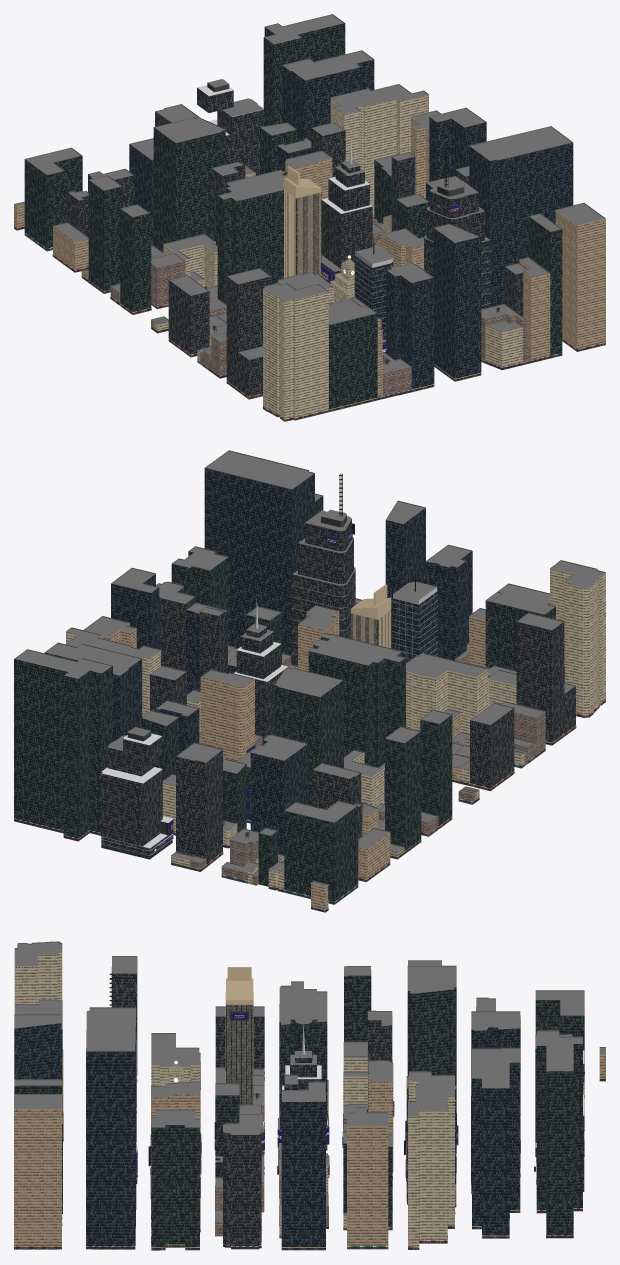
File: hero.glb
The picture shows the model from 3 angles, top to bottom: view 1: azimuth 30°, elevation 25°; view 2: azimuth 150°, elevation 25°; view 3: azimuth 270°, elevation 25°; orthographic projection. The views are drawn at different scales.
Visible parts, largest first — view 1: BLD_TS_BankOfAmericaTower_1087268, BLD_TS_1087978, BLD_TS_MorganStanleyBuilding_1076193, BLD_TS_1086069, BLD_TS_NewYorkMarriottMarquisHotel_1024727, BLD_TS_1087119, BLD_TS_CelaneseBuilding_1022678, BLD_TS_1024656, BLD_TS_McgrawHillBuilding_1022693, BLD_TS_1024665, BLD_TS_1540Broadway, BLD_TS_ExxonBuilding_1022706 (+37 smaller); view 2: BLD_TS_ExxonBuilding_1022706, BLD_TS_BankOfAmericaTower_1087268, BLD_TS_NewYorkMarriottMarquisHotel_1024727, BLD_TS_750SeventhAve, BLD_TS_1085498, BLD_TS_1087978, BLD_TS_FourTimesSquare, BLD_TS_MorganStanleyBuilding_1076193, BLD_TS_1024795, BLD_TS_1087141, BLD_TS_CrownPlazaHotel_1076195, BLD_TS_1088760 (+34 smaller); view 3: BLD_TS_BankOfAmericaTower_1087268, BLD_TS_ExxonBuilding_1022706, BLD_TS_McgrawHillBuilding_1022693, BLD_TS_CelaneseBuilding_1022678, BLD_TS_1087119, BLD_TS_AmericasTowerOffices_1076173, BLD_TS_1080824, BLD_TS_JPStevensCompanyTower_1083717, BLD_TS_MorganStanleyBuilding_1076193, BLD_TS_1022631, BLD_TS_NewYorkMarriottMarquisHotel_1024727, BLD_TS_OneAstorPlaza (+17 smaller).
Boxes of the visible parts, bbox=[...] form: BLD_TS_BankOfAmericaTower_1087268: bbox=[469, 126, 573, 306]; BLD_TS_1087978: bbox=[263, 283, 328, 421]; BLD_TS_MorganStanleyBuilding_1076193: bbox=[153, 117, 225, 252]; BLD_TS_1086069: bbox=[433, 223, 481, 381]; BLD_TS_NewYorkMarriottMarquisHotel_1024727: bbox=[217, 169, 287, 304]; BLD_TS_1087119: bbox=[555, 203, 605, 351]; BLD_TS_CelaneseBuilding_1022678: bbox=[330, 84, 428, 217]; BLD_TS_1024656: bbox=[386, 262, 434, 392]; BLD_TS_McgrawHillBuilding_1022693: bbox=[282, 50, 374, 141]; BLD_TS_1024665: bbox=[329, 298, 377, 411]; BLD_TS_1540Broadway: bbox=[321, 137, 372, 280]; BLD_TS_ExxonBuilding_1022706: bbox=[263, 14, 345, 126]; BLD_TS_ExxonBuilding_1022706: bbox=[14, 649, 112, 841]; BLD_TS_BankOfAmericaTower_1087268: bbox=[204, 450, 314, 664]; BLD_TS_NewYorkMarriottMarquisHotel_1024727: bbox=[308, 633, 405, 767]; BLD_TS_750SeventhAve: bbox=[101, 727, 173, 859]; BLD_TS_1085498: bbox=[284, 800, 358, 904]; BLD_TS_1087978: bbox=[550, 560, 605, 717]; BLD_TS_FourTimesSquare: bbox=[292, 473, 355, 665]; BLD_TS_MorganStanleyBuilding_1076193: bbox=[274, 667, 343, 805]; BLD_TS_1024795: bbox=[176, 742, 223, 867]; BLD_TS_1087141: bbox=[516, 612, 564, 745]; BLD_TS_CrownPlazaHotel_1076195: bbox=[250, 734, 308, 854]; BLD_TS_1088760: bbox=[406, 653, 488, 733]; BLD_TS_BankOfAmericaTower_1087268: bbox=[86, 1007, 136, 1249]; BLD_TS_ExxonBuilding_1022706: bbox=[536, 1030, 582, 1238]; BLD_TS_McgrawHillBuilding_1022693: bbox=[472, 1047, 520, 1238]; BLD_TS_CelaneseBuilding_1022678: bbox=[408, 1071, 455, 1249]; BLD_TS_1087119: bbox=[14, 1094, 61, 1249]; BLD_TS_AmericasTowerOffices_1076173: bbox=[281, 1081, 325, 1250]; BLD_TS_1080824: bbox=[151, 1109, 199, 1250]; BLD_TS_JPStevensCompanyTower_1083717: bbox=[347, 1107, 388, 1249]; BLD_TS_MorganStanleyBuilding_1076193: bbox=[407, 965, 456, 1114]; BLD_TS_1022631: bbox=[223, 1114, 261, 1249]; BLD_TS_NewYorkMarriottMarquisHotel_1024727: bbox=[279, 981, 327, 1150]; BLD_TS_OneAstorPlaza: bbox=[214, 967, 264, 1154].
Size of the model in its own units: 519 by 294 by 736.
133 materials, 124 textured.
